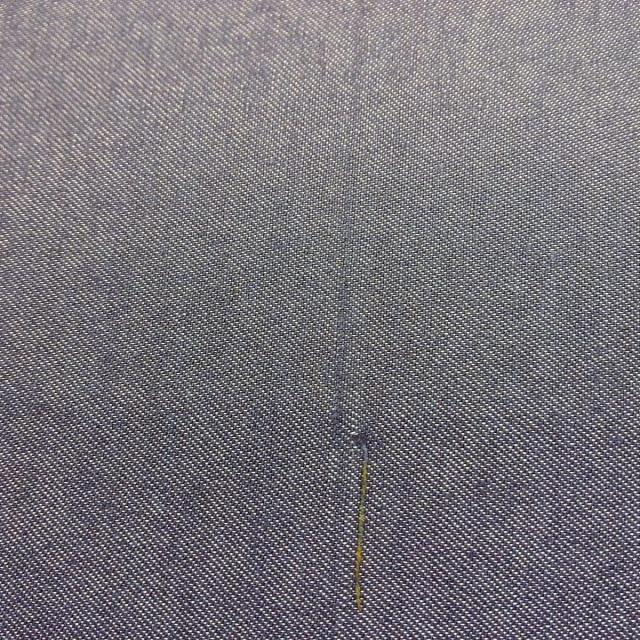Line: (327, 2, 372, 640), (350, 440, 373, 613)
